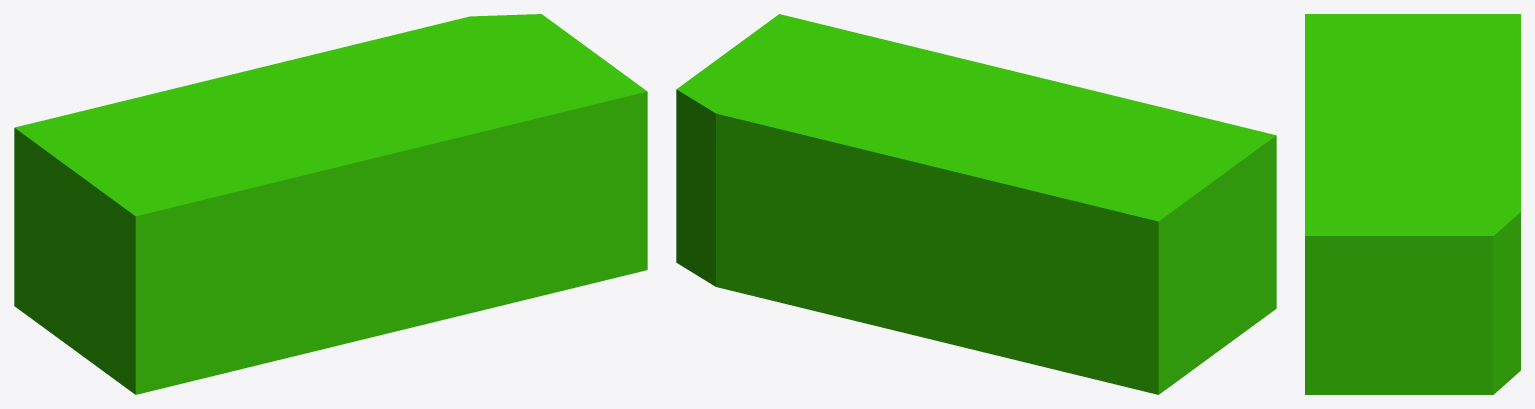
File: simple_example_hole_part_20.obj
The picture shows the model from 3 angles, left to right: view 1: azimuth 30°, elevation 25°; view 2: azimuth 150°, elevation 25°; view 3: azimuth 270°, elevation 25°; orthographic projection. The views are drawn at different scales.
Size of the model in its own units: 30 by 10 by 12.31.
